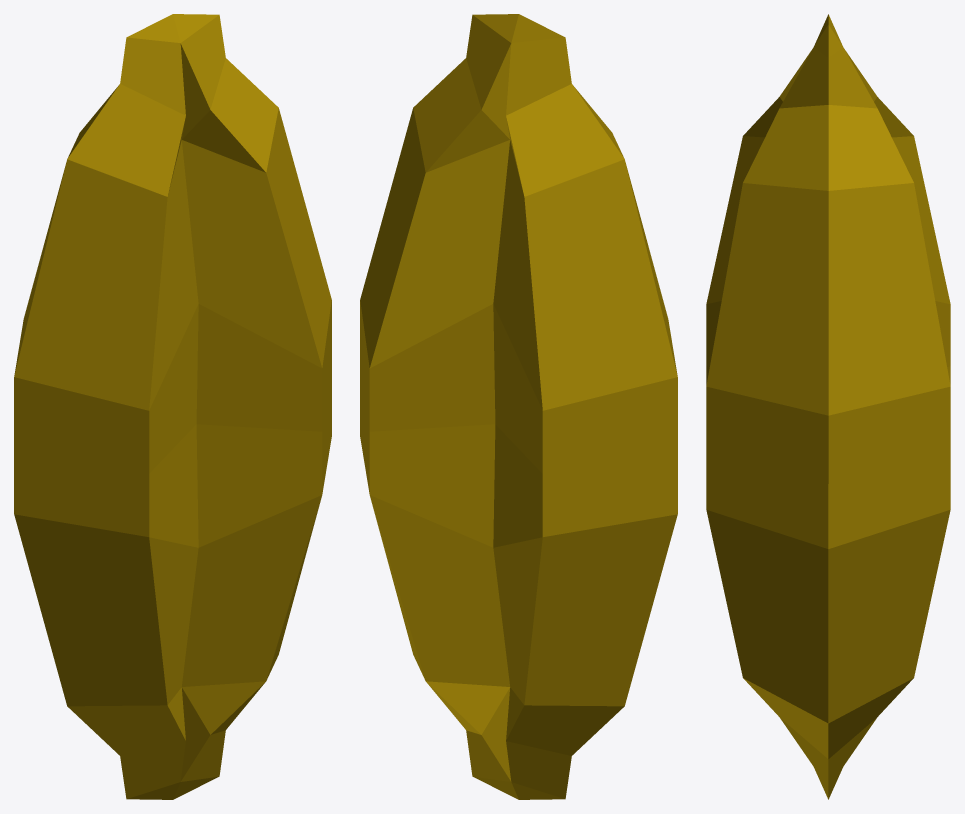
Rendered from Autonomous_weat_grain.fbx.
3 views of the same model, side by side, from view 1: azimuth 30°, elevation 25°; view 2: azimuth 150°, elevation 25°; view 3: azimuth 270°, elevation 25° (orthographic). The views are drawn at different scales.
Visible parts, largest first — view 1: Cone.001; view 2: Cone.001; view 3: Cone.001.
Boxes of the visible parts, x1,y1,x2,y2 form: Cone.001: [14, 14, 331, 799]; Cone.001: [360, 14, 677, 799]; Cone.001: [706, 14, 950, 799].
Size of the model in its own units: 73.36 by 173 by 50.19.
